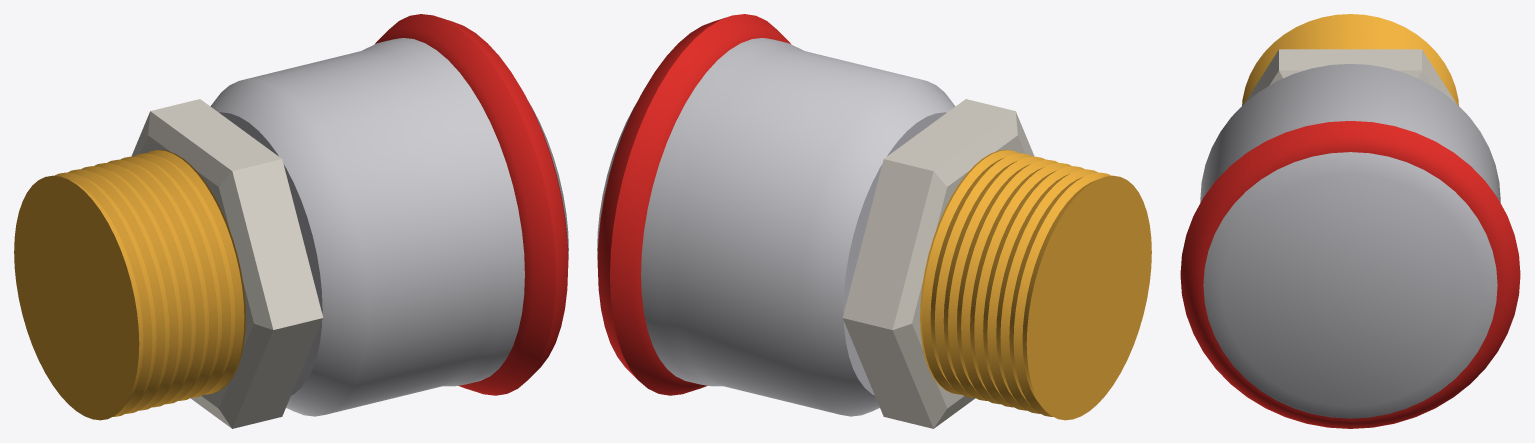
The model's file is fitting_adp_28x34_M_r.glb.
3 views of the same model, side by side, from view 1: azimuth 30°, elevation 25°; view 2: azimuth 150°, elevation 25°; view 3: azimuth 270°, elevation 25° (orthographic). The views are drawn at different scales.
Parts seen in each view (by area): view 1: раструб, резьба НР, шестигранник переходника, кольцо пресс; view 2: раструб, резьба НР, шестигранник переходника, кольцо пресс; view 3: раструб, кольцо пресс, резьба НР, шестигранник переходника.
Boxes of the visible parts, <box> form: раструб: <box>210,38,568,416</box>; резьба НР: <box>14,149,245,420</box>; шестигранник переходника: <box>131,99,323,428</box>; кольцо пресс: <box>375,14,568,395</box>; раструб: <box>597,38,955,416</box>; резьба НР: <box>920,149,1151,420</box>; шестигранник переходника: <box>842,99,1034,428</box>; кольцо пресс: <box>597,14,790,395</box>; раструб: <box>1200,63,1500,418</box>; кольцо пресс: <box>1180,121,1520,428</box>; резьба НР: <box>1242,14,1458,105</box>; шестигранник переходника: <box>1244,49,1456,103</box>.
Bounding box in the file's own units: 0.051 × 0.0412 × 0.0412.
